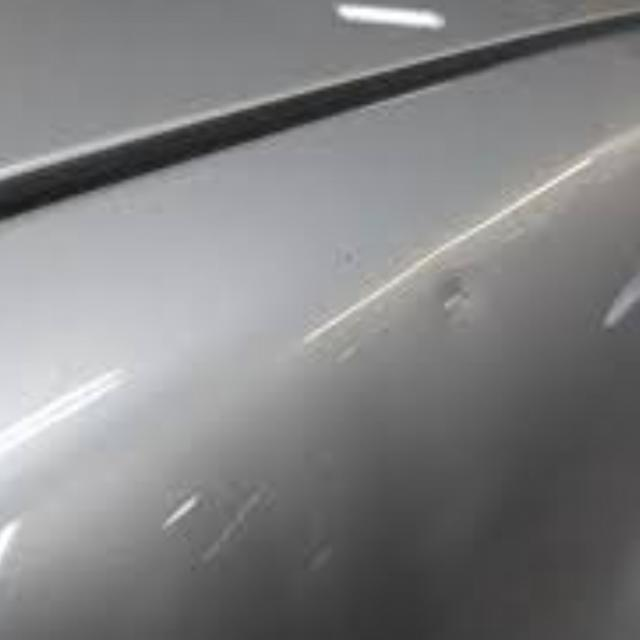dents: (439, 273, 486, 344)
